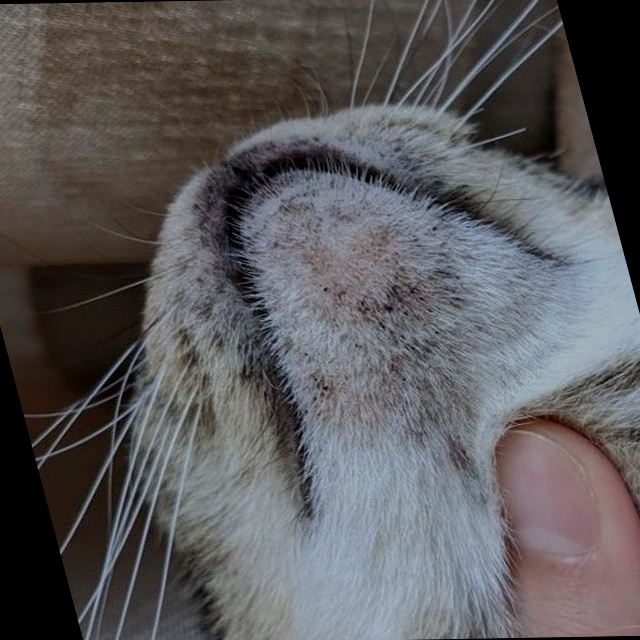acne: (255, 212, 510, 444)
